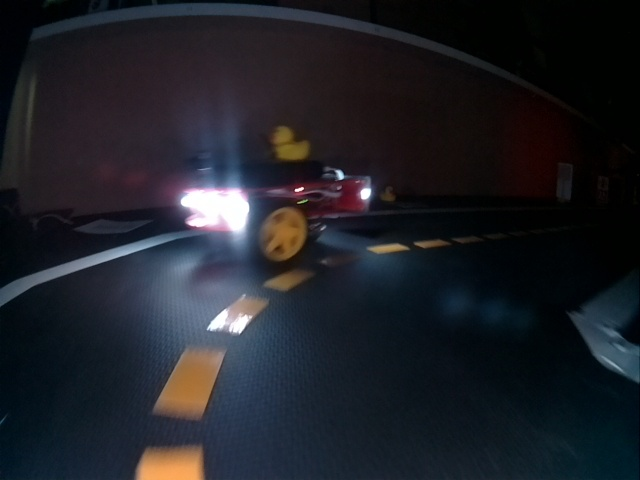Duckie: (270, 127, 309, 157), (380, 188, 395, 201)
Duckiebot: (179, 165, 371, 265)
